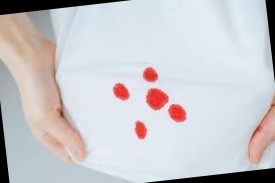blood: (145, 88, 170, 112), (168, 104, 187, 125), (112, 81, 131, 102), (141, 67, 159, 83), (134, 120, 148, 140)
